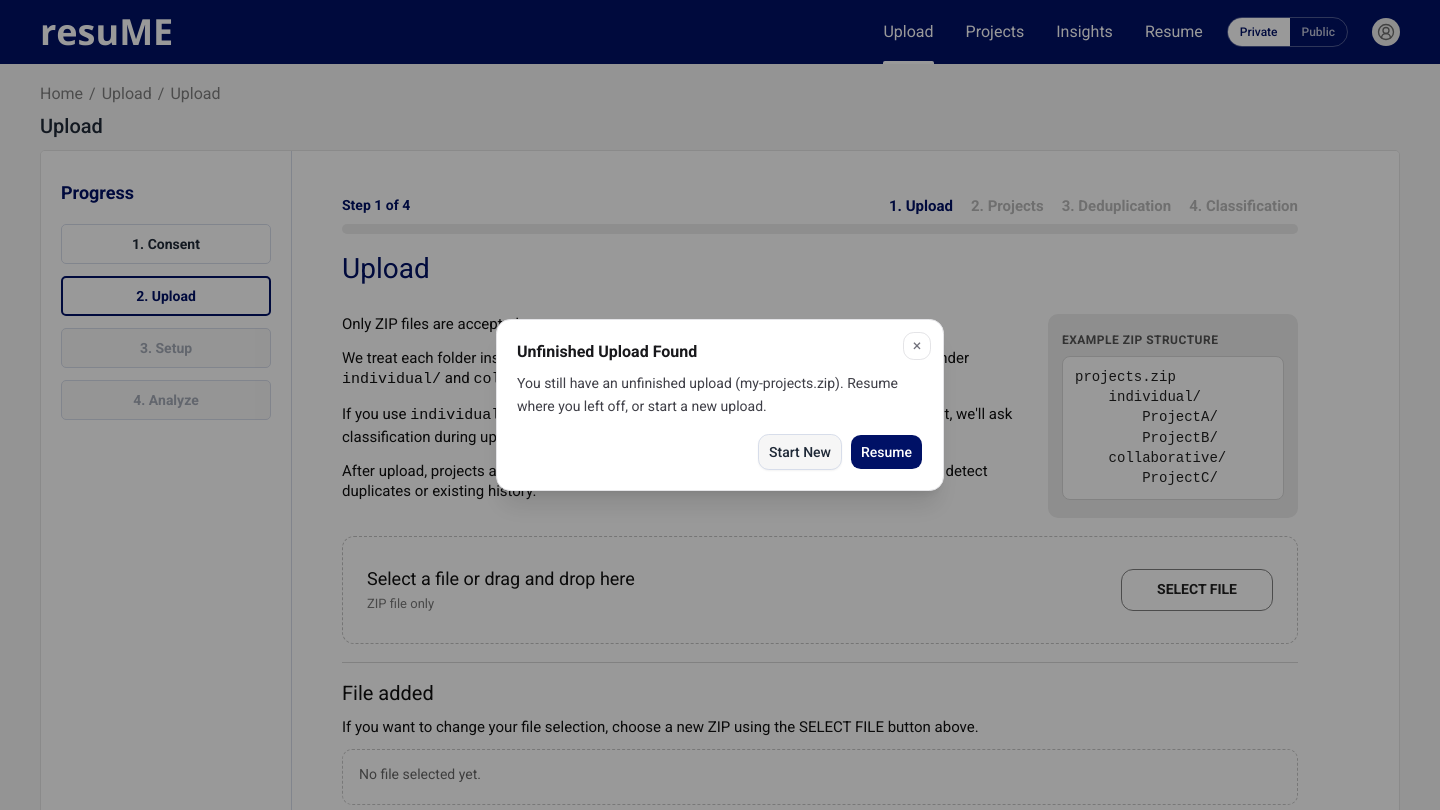
UploadPage recovery and validation flows › shows recovery error when deleting unfinished upload fails
Expected: the heading "Unfinished Upload Found" is shown, x1=517 y1=342 x2=697 y2=361
Click the button "Start New" at x=800, y=452, box x1=758 y1=434 x2=842 y2=470
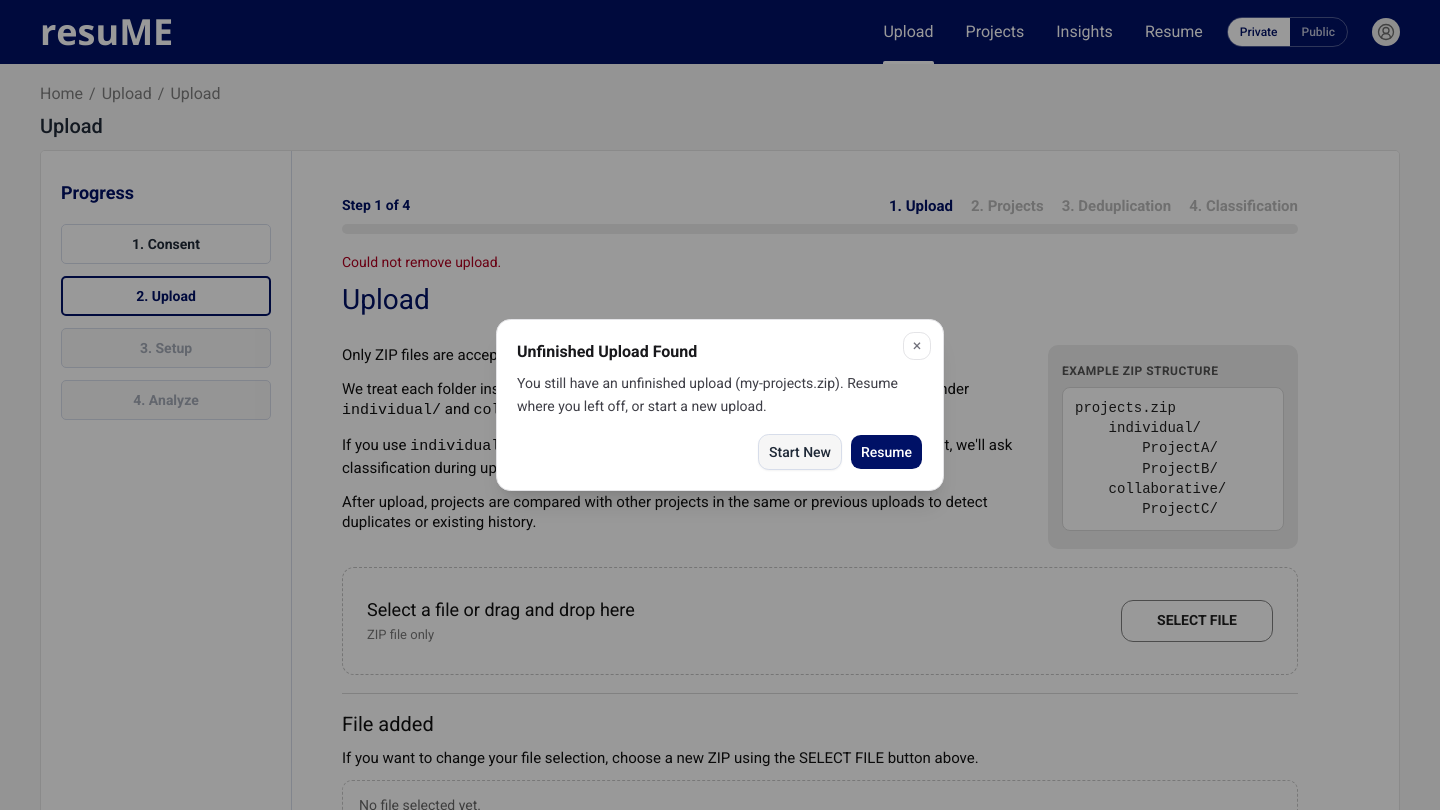
Expected: the heading "Unfinished Upload Found" is shown, x1=517 y1=342 x2=697 y2=361
Expected: the text "Could not remove upload." is shown, x1=342 y1=254 x2=501 y2=270
